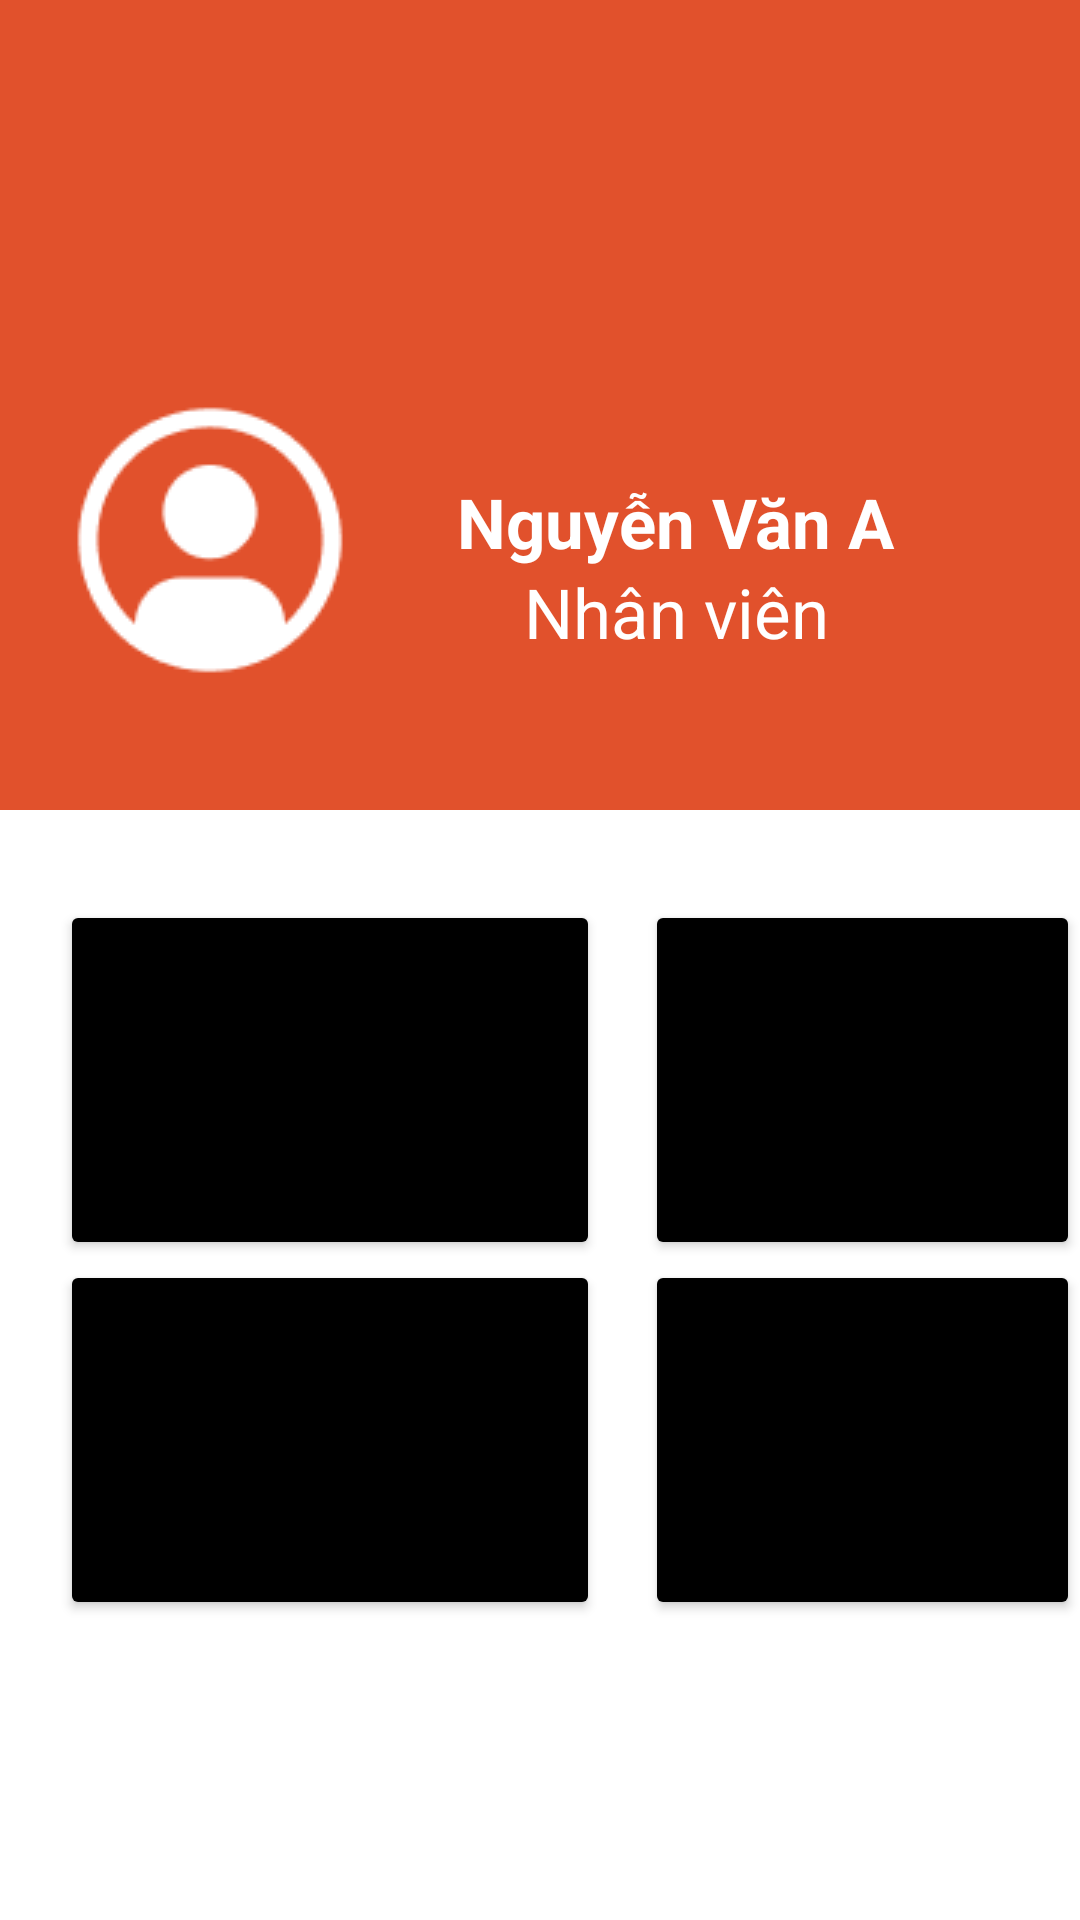

Where icons sit on this 1080x1920 app screen, as (x1=x1, y1=y1, x2=x2, y2=y2):
user: (x1=77, y1=407, x2=343, y2=673)
